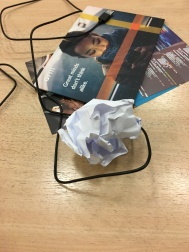paper_white: (46, 92, 156, 174)
